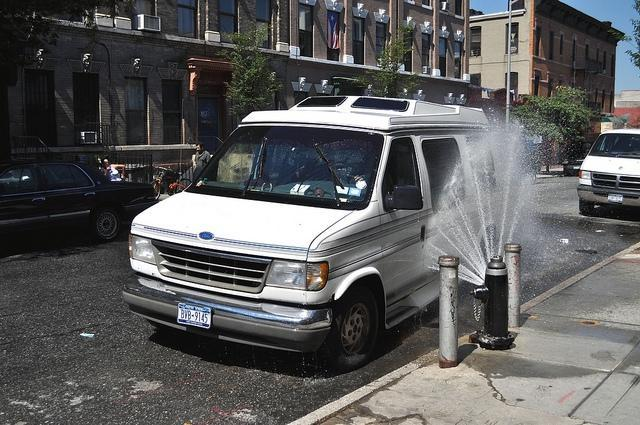bicycle: (151, 166, 192, 200)
car: (124, 95, 497, 364), (1, 162, 159, 242), (577, 127, 640, 219), (562, 154, 584, 177)
